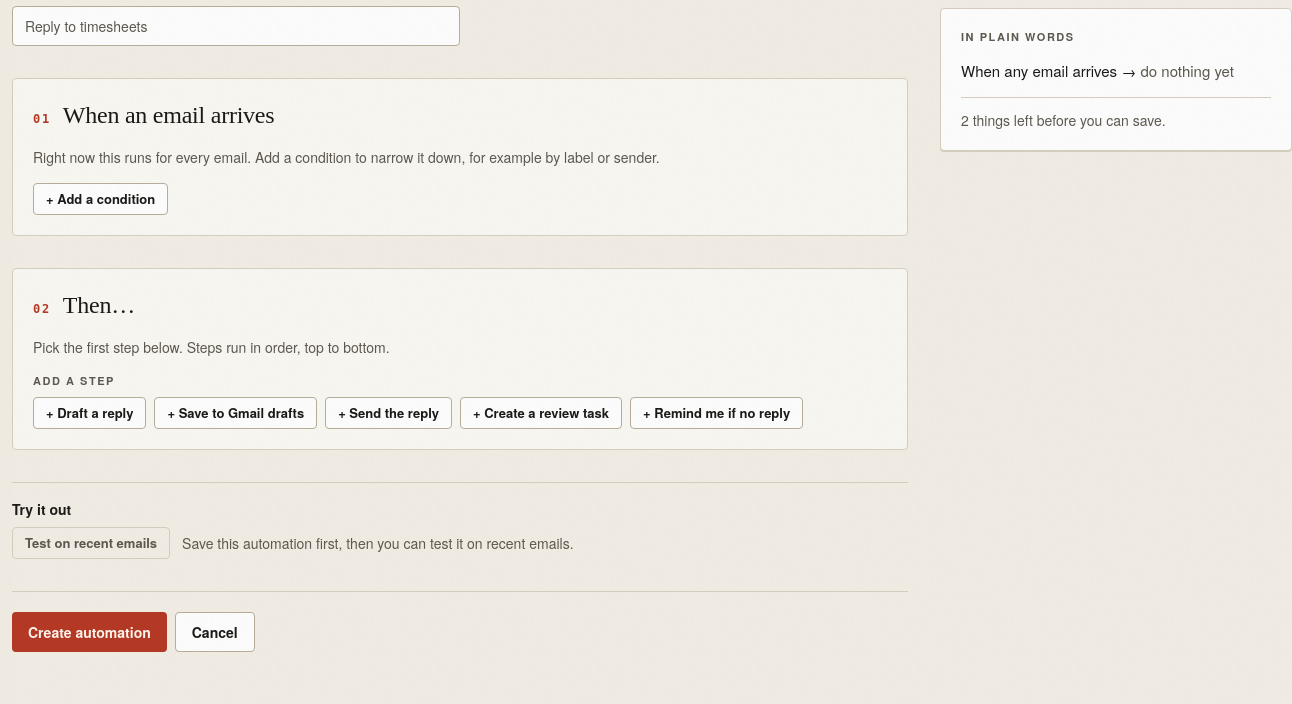
AutomationBuilder › blocks send_reply without a draft_reply before it and shows the auto-send warning
The width and height of the screenshot is (1292, 704).
Type "Auto reply" into the field labelled "Name" at (236,26), box [12, 6, 460, 46]
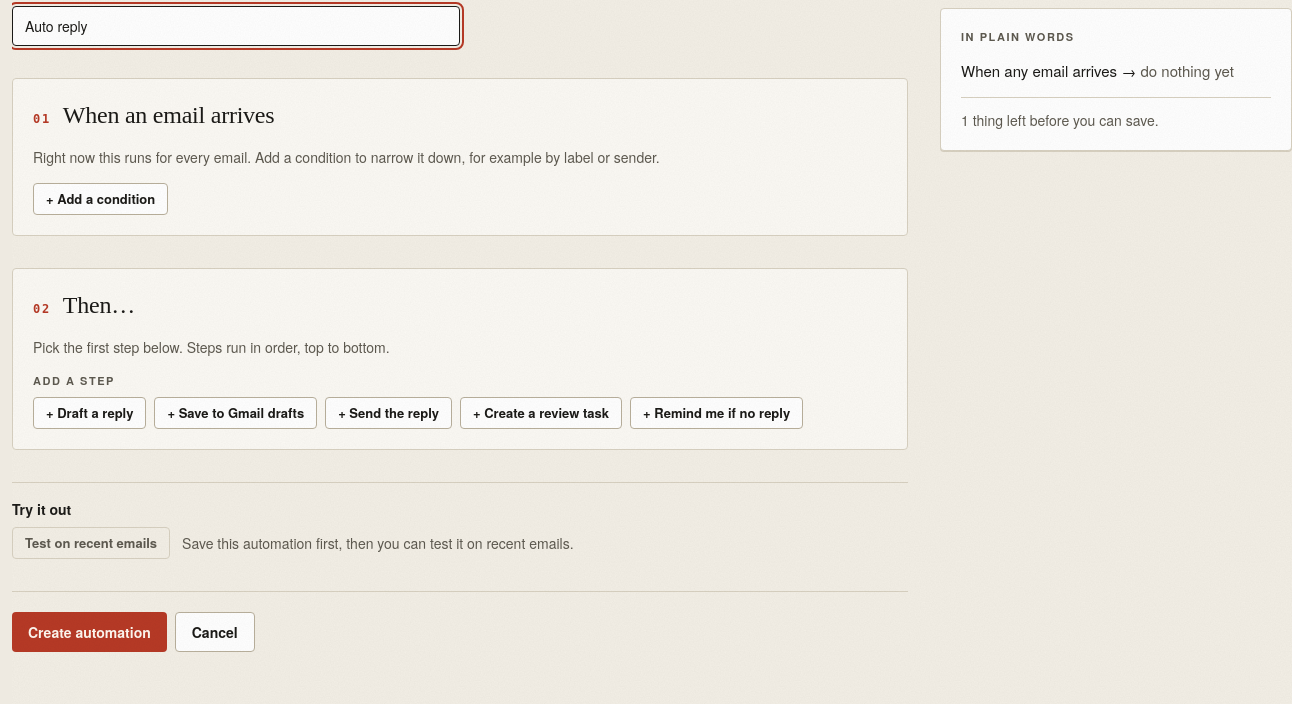
Click the button "+ Send the reply" at (389,413), box [325, 397, 452, 429]
(page scrolled)
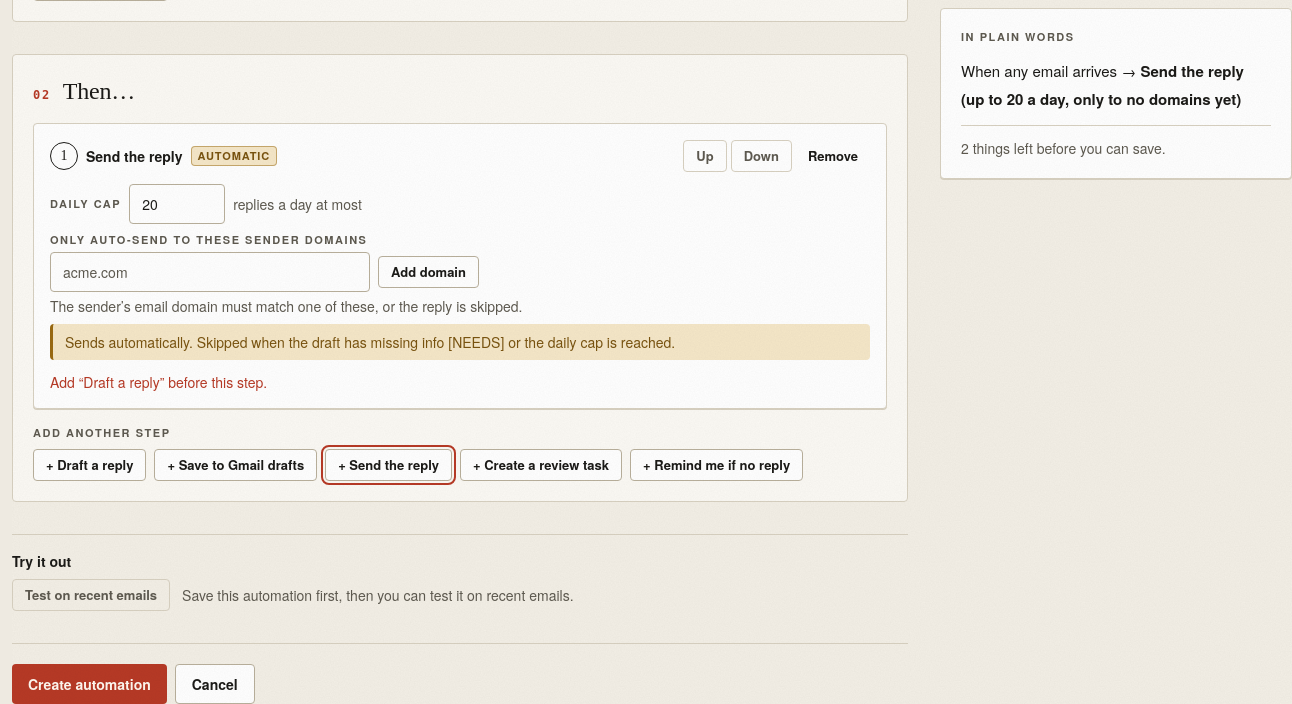
Expected: the text "Sends automatically. Skipped when the draft has missing info [NEEDS] or the daily cap is reached." is shown, [65, 332, 675, 352]
Click the button "Create automation" at (89,684), box [12, 664, 167, 703]
(page scrolled)
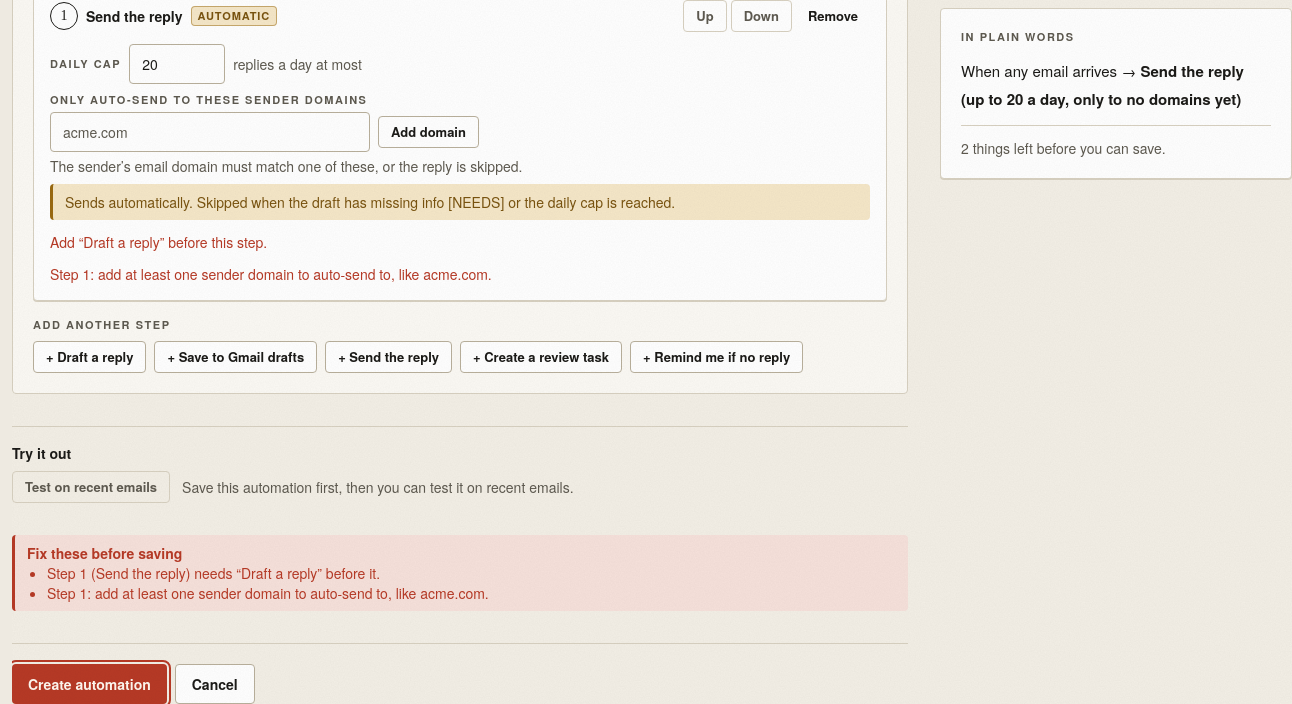
Expected: the message shows "needs “Draft a reply” before it", [47, 563, 380, 583]
